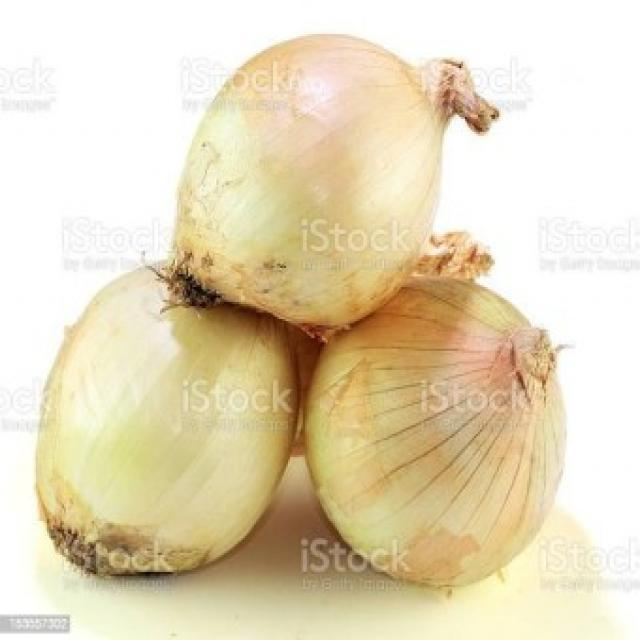onion: (161, 34, 501, 344), (34, 267, 302, 580), (305, 276, 566, 589)
